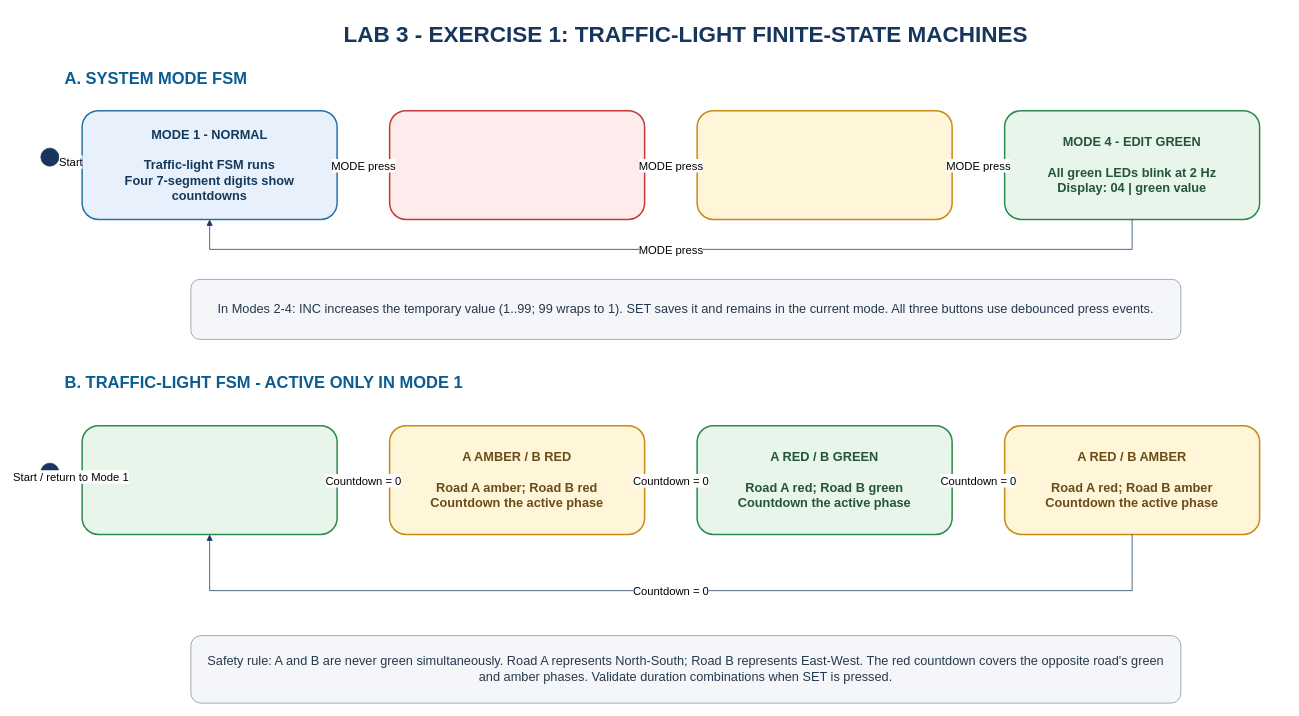
This 1299x716 diagram has some shape labels left out. Here are the shapes that lost their labels. From the top down, the centre of each, then its label:
point 516,165: MODE 2 - EDIT RED All red LEDs blink at 2 Hz Display: 02 | red value
point 824,165: MODE 3 - EDIT AMBER All amber LEDs blink at 2 Hz Display: 03 | amber value
point 209,479: A GREEN / B RED Road A green; Road B red Countdown the active phase
